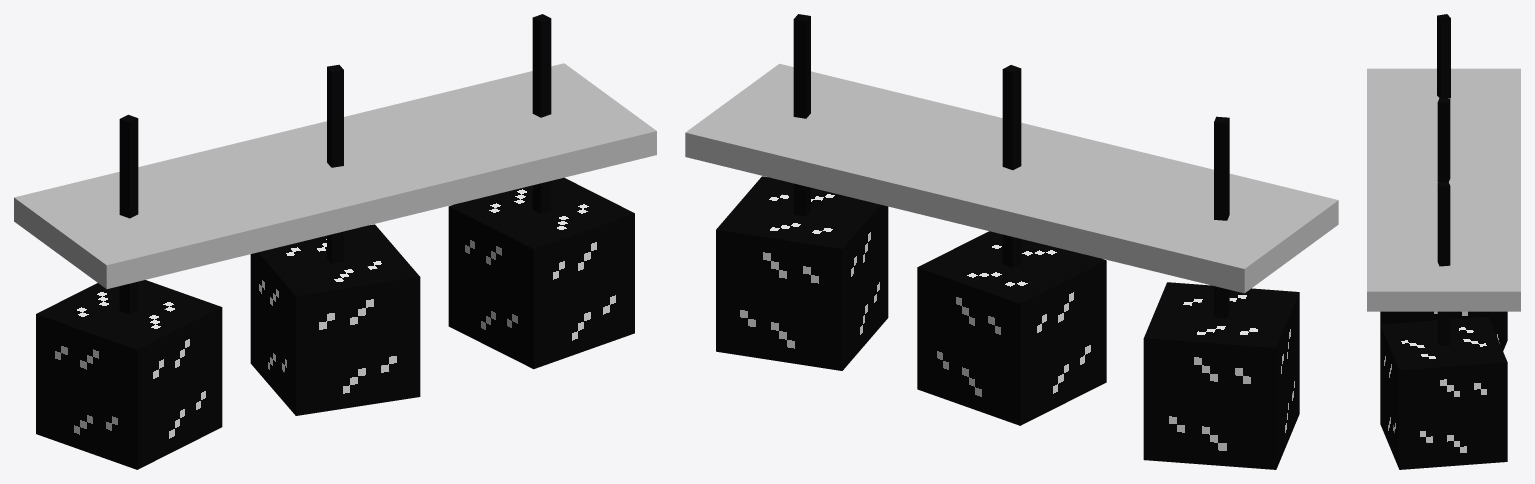
File: lampe.obj
3 views of the same model, side by side, from view 1: azimuth 30°, elevation 25°; view 2: azimuth 150°, elevation 25°; view 3: azimuth 270°, elevation 25° (orthographic). The views are drawn at different scales.
Visible parts, largest first — view 1: plane.012_plane.038, cube_cube.015, cube.008_cube.023; view 2: plane.012_plane.038, cube_cube.015, cube.008_cube.023; view 3: cube_cube.015, plane.012_plane.038, cube.008_cube.023.
Boxes of the visible parts, <box> form: plane.012_plane.038: <box>36,177,634,469</box>; cube_cube.015: <box>14,63,656,289</box>; cube.008_cube.023: <box>117,14,559,318</box>; plane.012_plane.038: <box>716,176,1299,469</box>; cube_cube.015: <box>685,63,1338,293</box>; cube.008_cube.023: <box>785,14,1236,321</box>; cube_cube.015: <box>1367,68,1520,311</box>; plane.012_plane.038: <box>1380,311,1507,469</box>; cube.008_cube.023: <box>1431,14,1456,348</box>.
Size of the model in its own units: 1.51 by 0.8125 by 0.4375.
